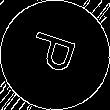P_E: (25, 30, 85, 81)
